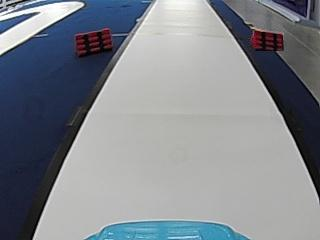bomb: (74, 25, 113, 56)
